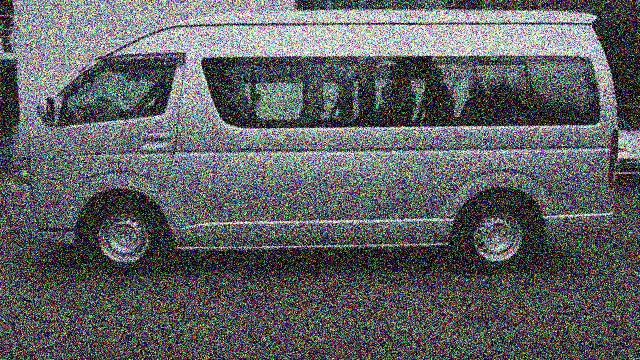van: (6, 9, 620, 268)
